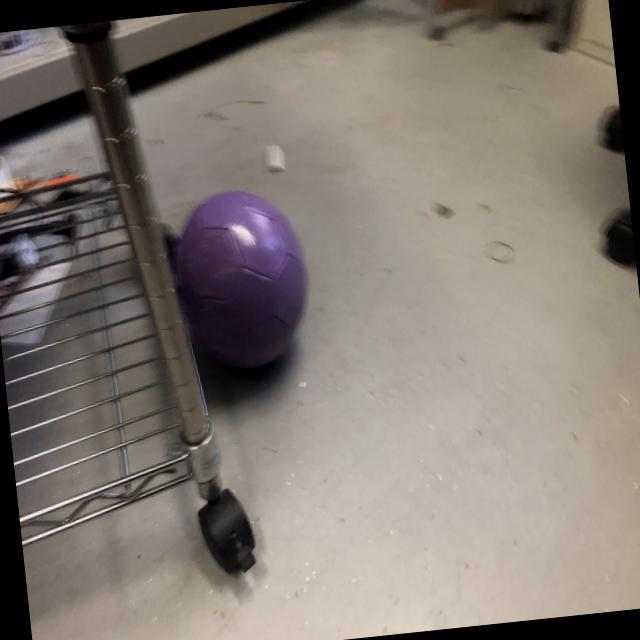purple_ball: (164, 185, 317, 379)
